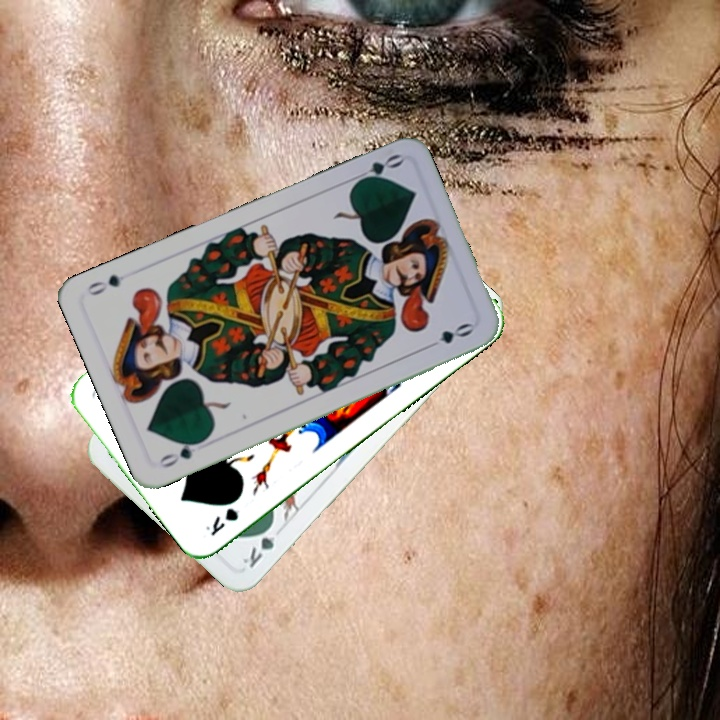GK: (238, 518, 278, 571), (201, 503, 242, 539)
GO: (348, 149, 405, 188), (154, 435, 208, 471)
